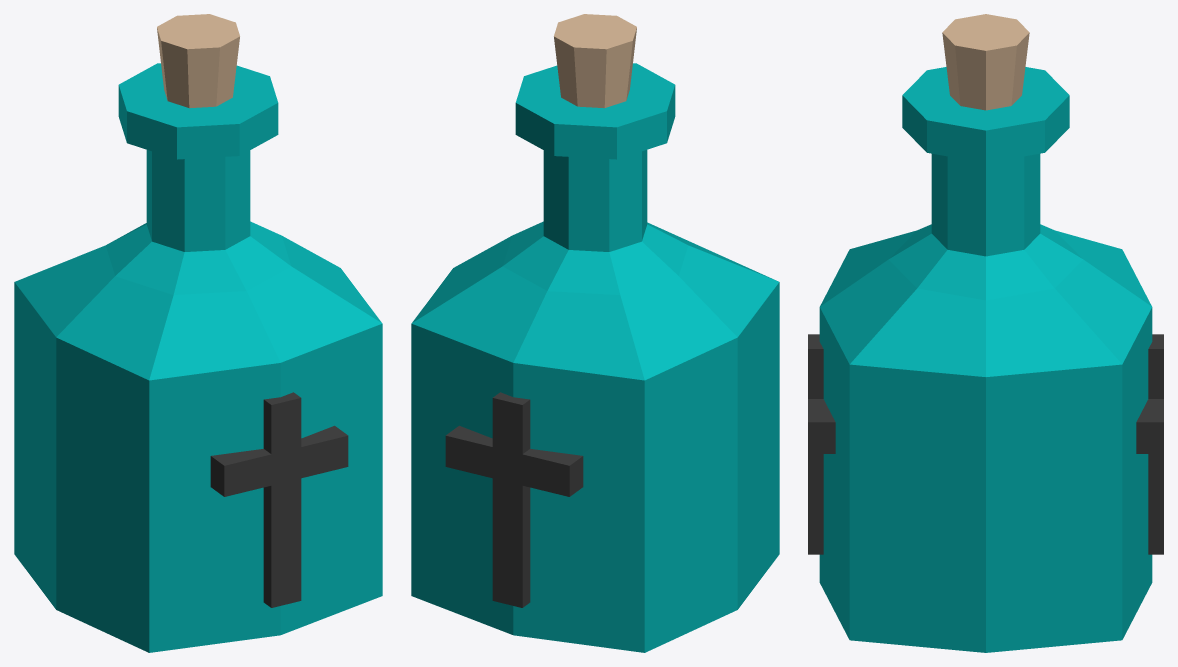
The model's file is char_020_item_poison_glass_01_FBX.fbx.
3 views of the same model, side by side, from view 1: azimuth 30°, elevation 25°; view 2: azimuth 150°, elevation 25°; view 3: azimuth 270°, elevation 25° (orthographic).
Visible parts, largest first — view 1: poison_glass, cross_glass, poison_stopper; view 2: poison_glass, cross_glass.001, poison_stopper; view 3: poison_glass, poison_stopper, cross_glass, cross_glass.001.
Part boxes in pixels (x1=…): poison_glass: x1=14, y1=63, x2=382, y2=652; cross_glass: x1=210, y1=392, x2=348, y2=607; poison_stopper: x1=157, y1=14, x2=239, y2=108; poison_glass: x1=411, y1=63, x2=779, y2=652; cross_glass.001: x1=445, y1=392, x2=583, y2=607; poison_stopper: x1=554, y1=14, x2=636, y2=108; poison_glass: x1=819, y1=67, x2=1152, y2=652; poison_stopper: x1=942, y1=14, x2=1029, y2=110; cross_glass: x1=808, y1=334, x2=835, y2=554; cross_glass.001: x1=1136, y1=334, x2=1163, y2=554.
Size of the model in its own units: 0.5638 by 1.03 by 0.6035.
1 material, 1 textured.
